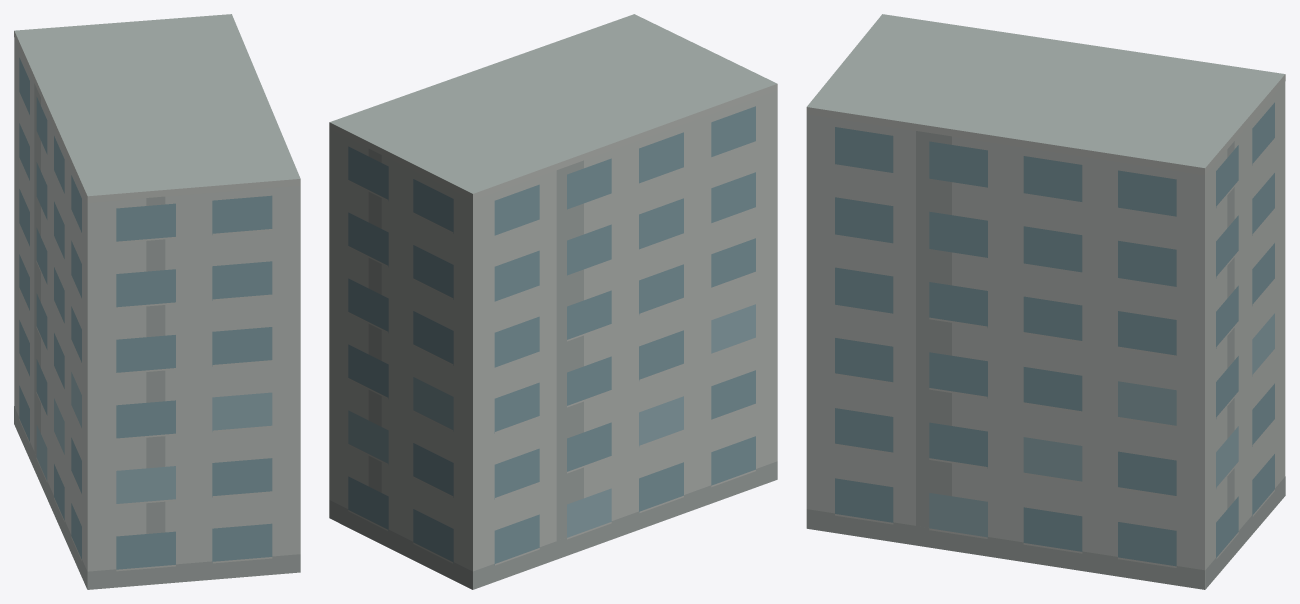
The model's file is survey-upis-32947136.glb.
3 renders of one model, left to right at view 1: azimuth 30°, elevation 25°; view 2: azimuth 150°, elevation 25°; view 3: azimuth 270°, elevation 25°, orthographic. The views are drawn at different scales.
Parts seen in each view (by area): view 1: survey-upis-32947136.tmp; view 2: survey-upis-32947136.tmp; view 3: survey-upis-32947136.tmp.
Part boxes in pixels (x1,y1,x2,y2): survey-upis-32947136.tmp: (14,14,300,589); survey-upis-32947136.tmp: (329,14,777,589); survey-upis-32947136.tmp: (806,14,1285,589).
Size of the model in its own units: 11.42 by 14.55 by 14.98.
